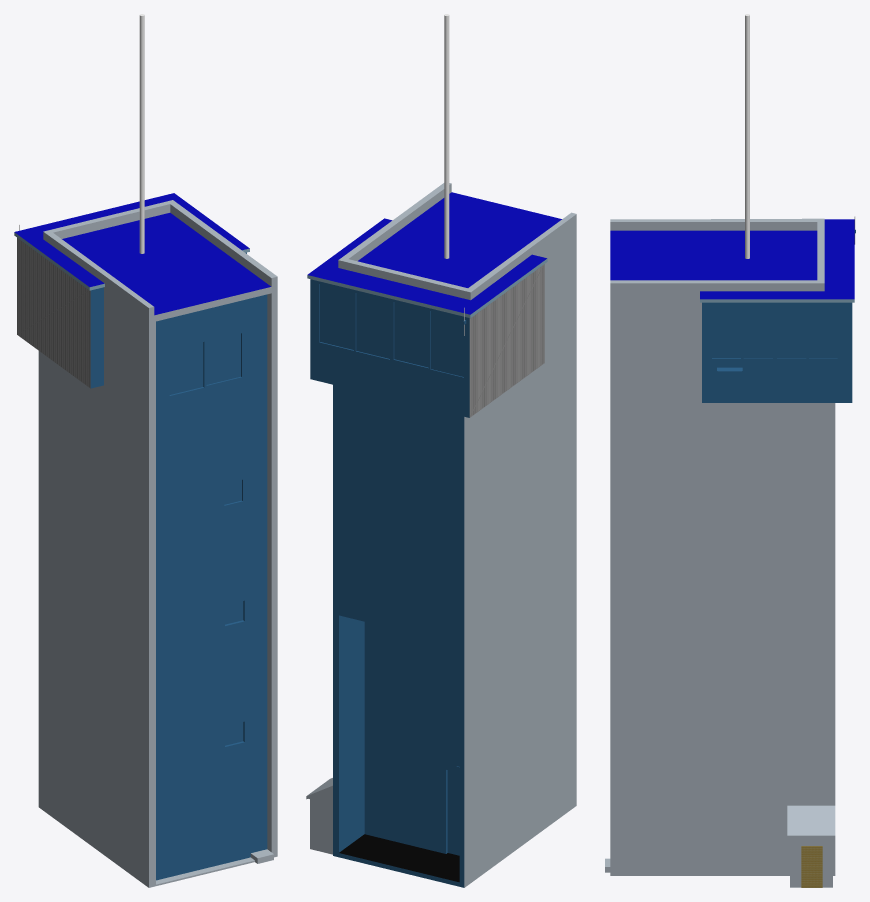
Rendered from TORRESIXE.GLTF.
3 views of the same model, side by side, from view 1: azimuth 30°, elevation 25°; view 2: azimuth 150°, elevation 25°; view 3: azimuth 270°, elevation 25° (orthographic). The views are drawn at different scales.
Visible parts, largest first — view 1: node3, node1, node5, node4, node8; view 2: node3, node13, node9, node5, node4, node7, node8, node6; view 3: node3, node2, node5, node8, node15, node6.
Part boxes in pixels (box(x1,y1,x2,y2)): node3: box(38, 200, 277, 887); node1: box(90, 252, 267, 880); node5: box(14, 193, 270, 315); node4: box(17, 238, 90, 388); node8: box(139, 14, 144, 253); node3: box(306, 183, 576, 887); node13: box(333, 385, 464, 887); node9: box(310, 279, 469, 417); node5: box(307, 192, 561, 314); node4: box(469, 264, 544, 417); node7: box(339, 834, 459, 882); node8: box(444, 14, 449, 258); node6: box(307, 258, 547, 318); node3: box(605, 218, 835, 887); node2: box(702, 302, 852, 402); node5: box(610, 219, 854, 299); node8: box(745, 14, 749, 258); node15: box(801, 846, 822, 887); node6: box(700, 299, 854, 302).
Bounding box in the file's own units: 5.59 × 25.38 × 6.98.
